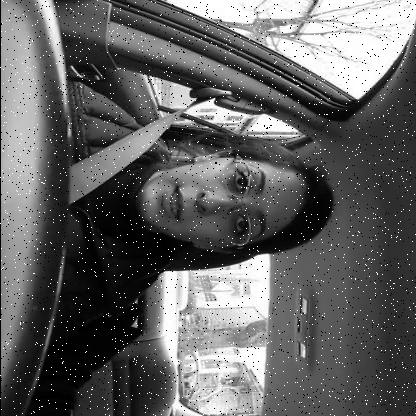seatbelt: (68, 82, 340, 258)
